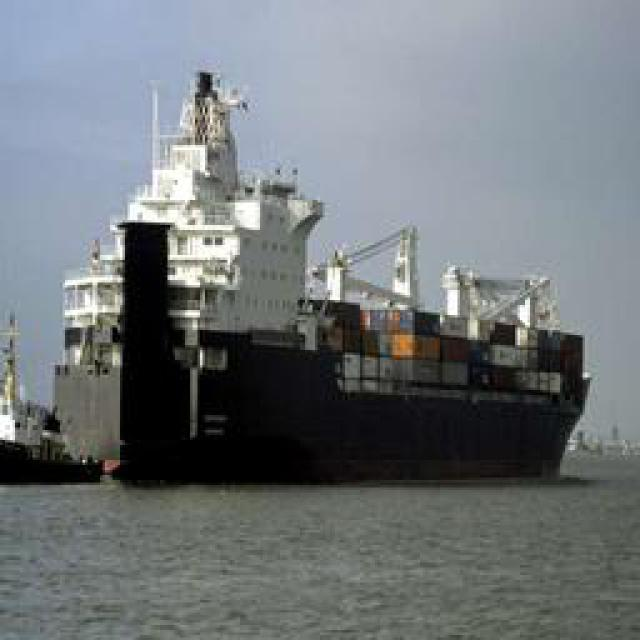Ship: (51, 54, 591, 484)
